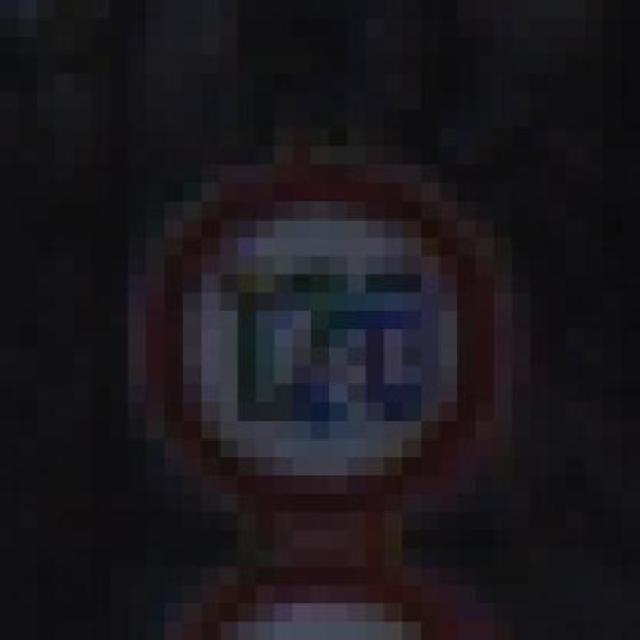forb_speed_over_120: (148, 162, 515, 520)
